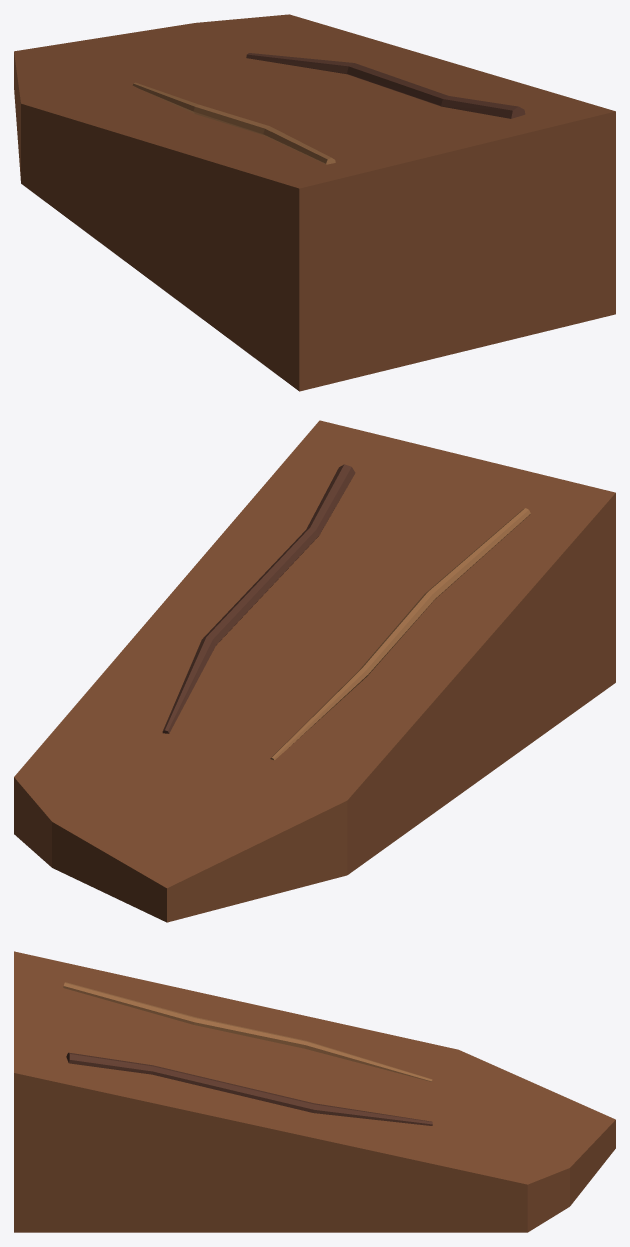
Rendered from canyon_12.glb.
3 renders of one model, top to bottom at view 1: azimuth 30°, elevation 25°; view 2: azimuth 150°, elevation 25°; view 3: azimuth 270°, elevation 25°, orthographic. The views are drawn at different scales.
Visible parts, largest first — view 1: canyon_12; view 2: canyon_12; view 3: canyon_12.
Boxes of the visible parts, x1,y1,x2,y2 form: canyon_12: (14, 14, 615, 391); canyon_12: (14, 420, 615, 922); canyon_12: (14, 951, 615, 1232).
Bounding box in the file's own units: 0.9554 × 0.5855 × 2.
